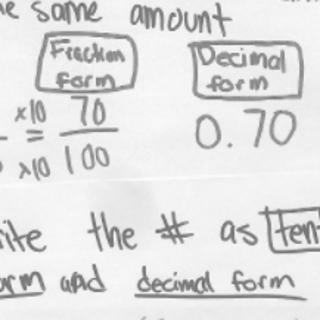.: (224, 135, 238, 153)
0: (266, 109, 300, 152), (191, 112, 222, 152), (77, 140, 96, 173), (91, 95, 108, 127), (95, 143, 111, 170)
1: (62, 143, 77, 177)
7: (239, 104, 267, 151), (68, 93, 91, 128)
